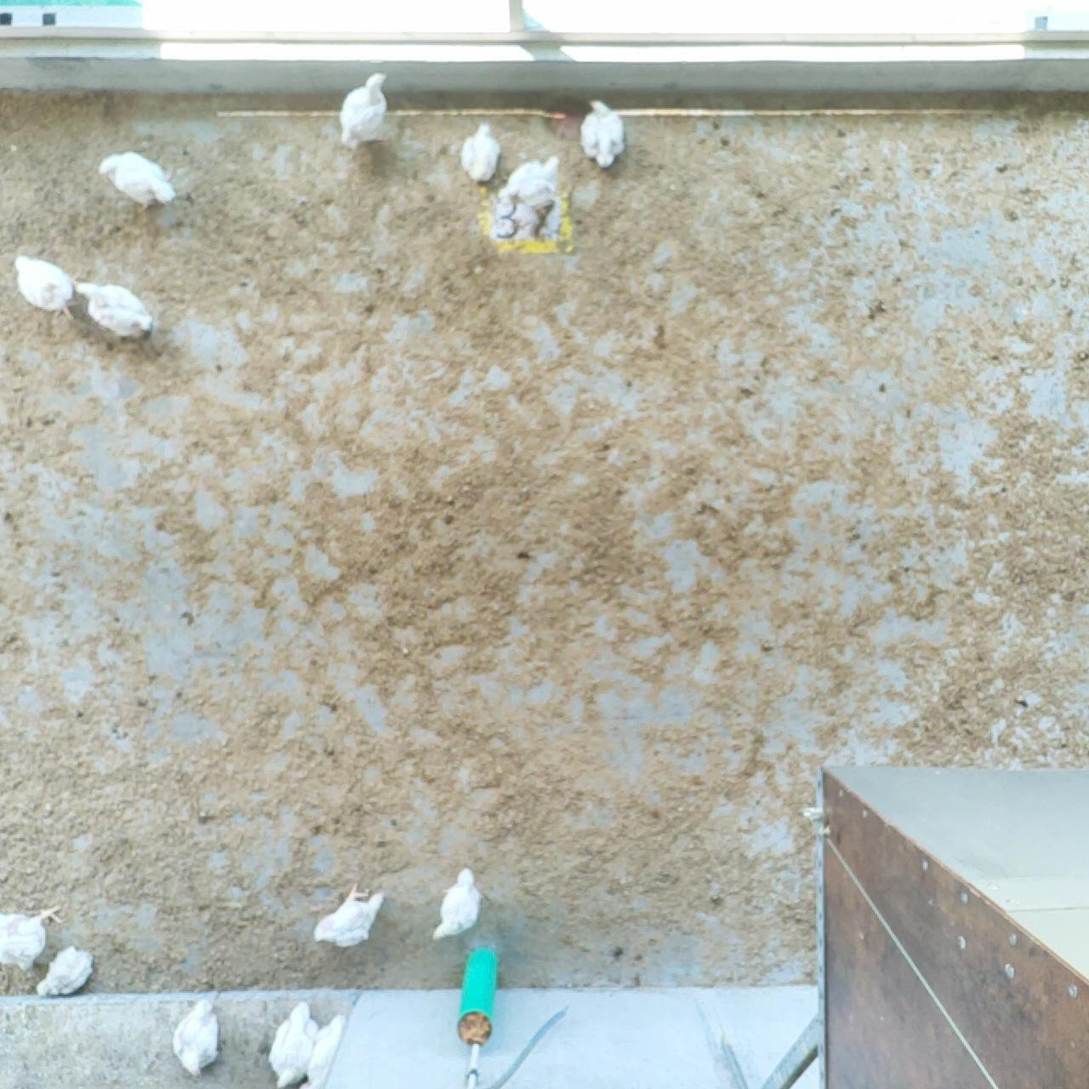chicken: (426, 864, 505, 947), (94, 143, 180, 215), (306, 879, 389, 952), (74, 278, 155, 347), (259, 996, 319, 1089), (331, 70, 398, 152), (165, 995, 229, 1080), (10, 249, 77, 317), (0, 903, 66, 972), (28, 946, 101, 1004), (299, 1012, 353, 1089), (575, 98, 632, 170), (497, 154, 568, 206), (458, 116, 502, 187)
